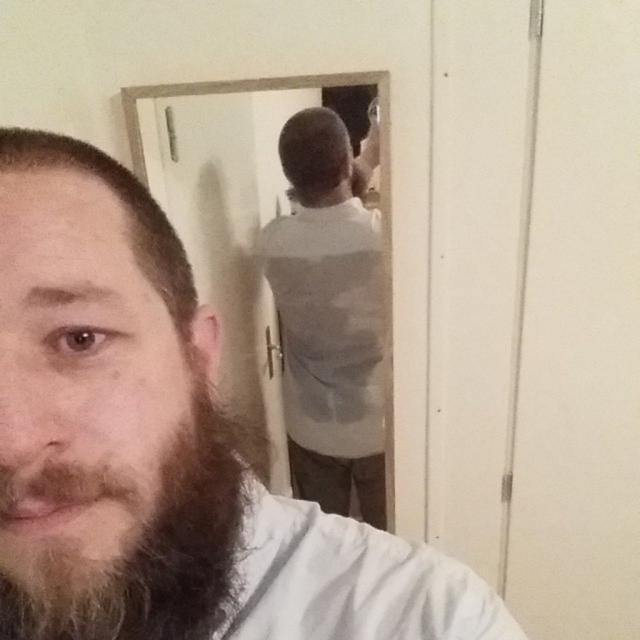closed-mouth: (0, 492, 105, 537)
